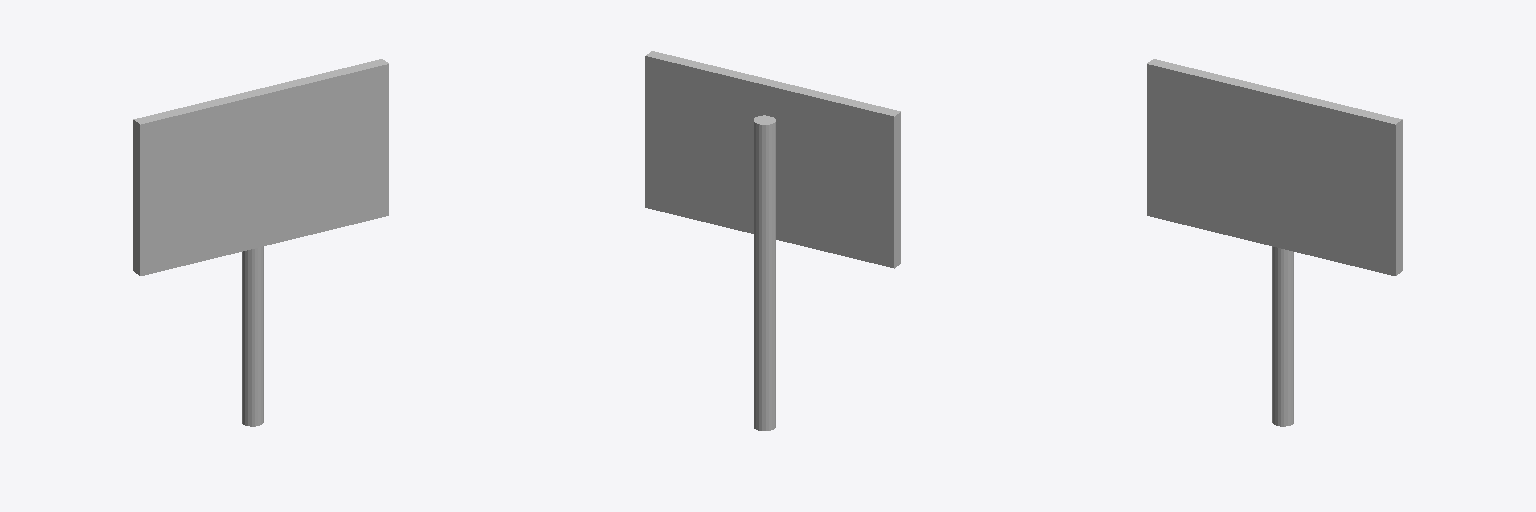
File: Sign.obj
3 renders of one model, left to right at view 1: azimuth 30°, elevation 25°; view 2: azimuth 150°, elevation 25°; view 3: azimuth 330°, elevation 25°, orthographic.
Size of the model in its own units: 4.38 by 5.65 by 0.5405.